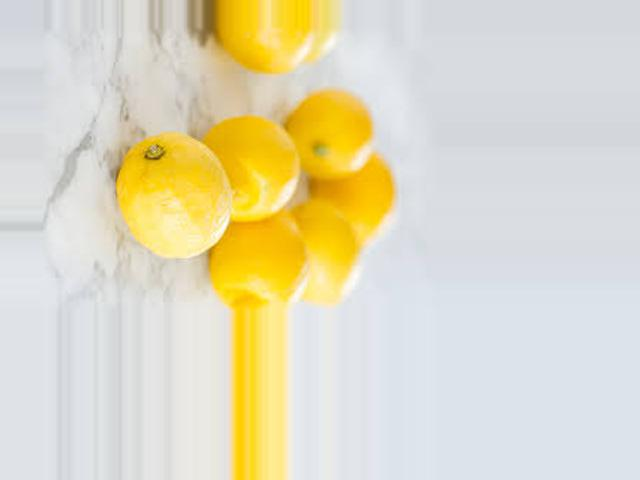lemon: (115, 113, 238, 270)
